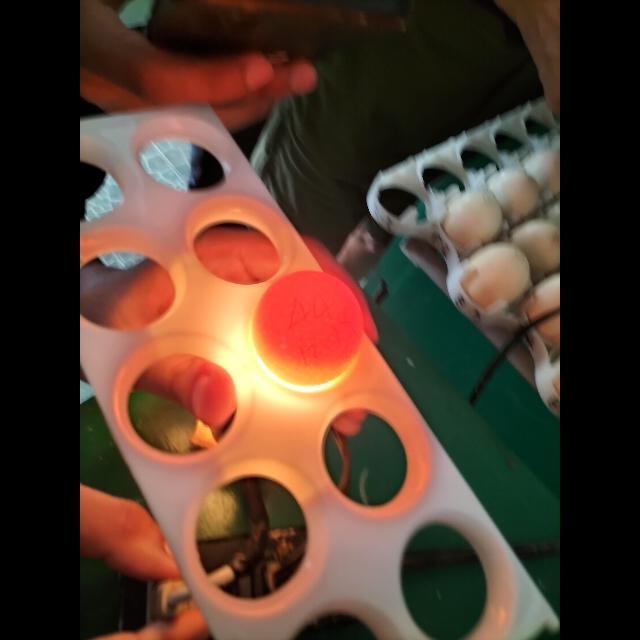Infertile: (254, 269, 360, 393)
